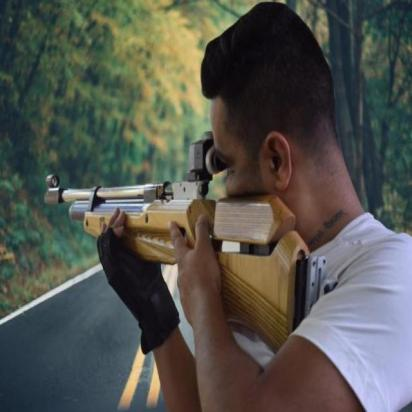Gun: (41, 128, 341, 359)
